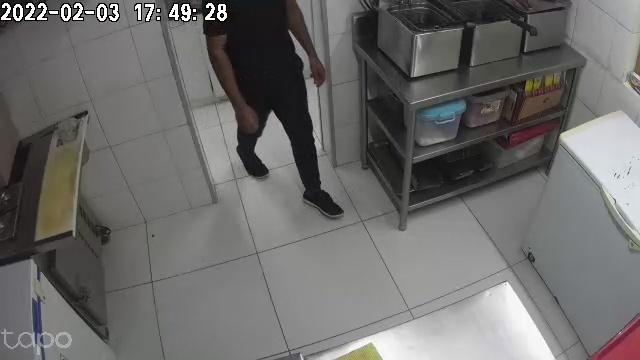no_gloves: (231, 96, 259, 135), (306, 45, 327, 88)
